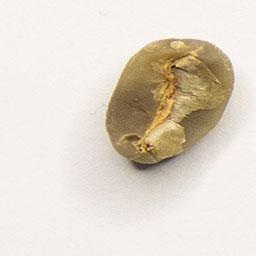premium: (101, 34, 237, 169)
